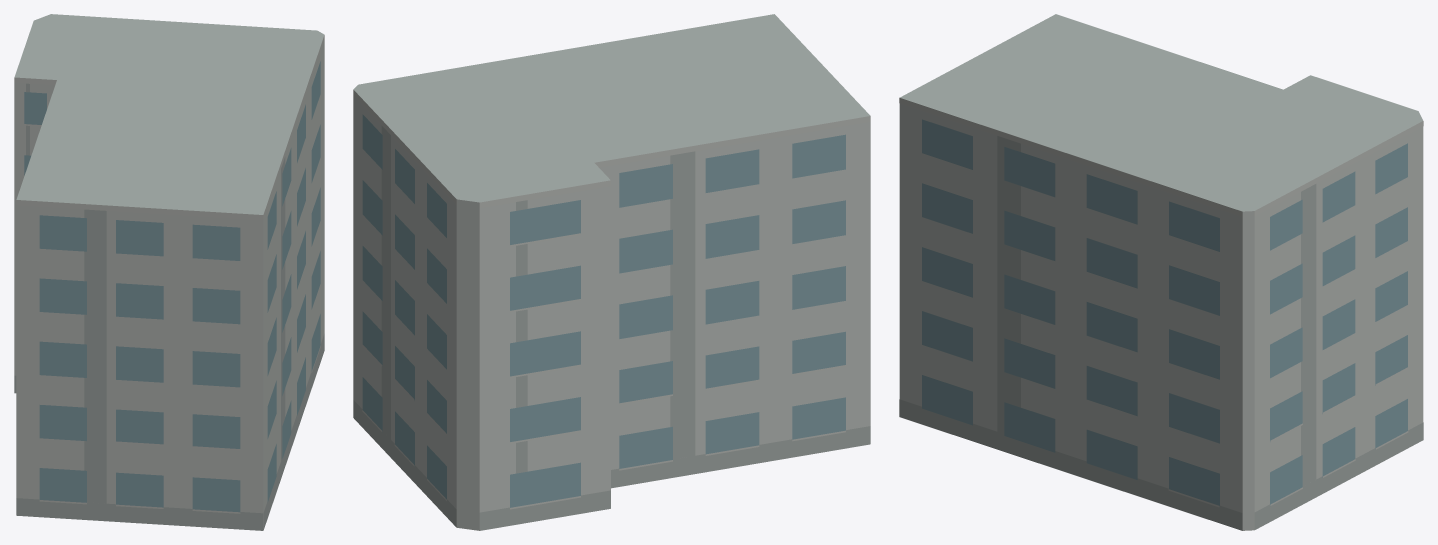
File: survey-upis-32939259.glb
The picture shows the model from 3 angles, left to right: view 1: azimuth 30°, elevation 25°; view 2: azimuth 150°, elevation 25°; view 3: azimuth 270°, elevation 25°; orthographic projection. The views are drawn at different scales.
Parts seen in each view (by area): view 1: survey-upis-32939259.tmp; view 2: survey-upis-32939259.tmp; view 3: survey-upis-32939259.tmp.
Part boxes in pixels (x1=…): survey-upis-32939259.tmp: x1=14, y1=14, x2=324, y2=530; survey-upis-32939259.tmp: x1=353, y1=14, x2=870, y2=530; survey-upis-32939259.tmp: x1=899, y1=14, x2=1423, y2=530.
Bounding box in the file's own units: 18.65 × 14.05 × 20.9.
